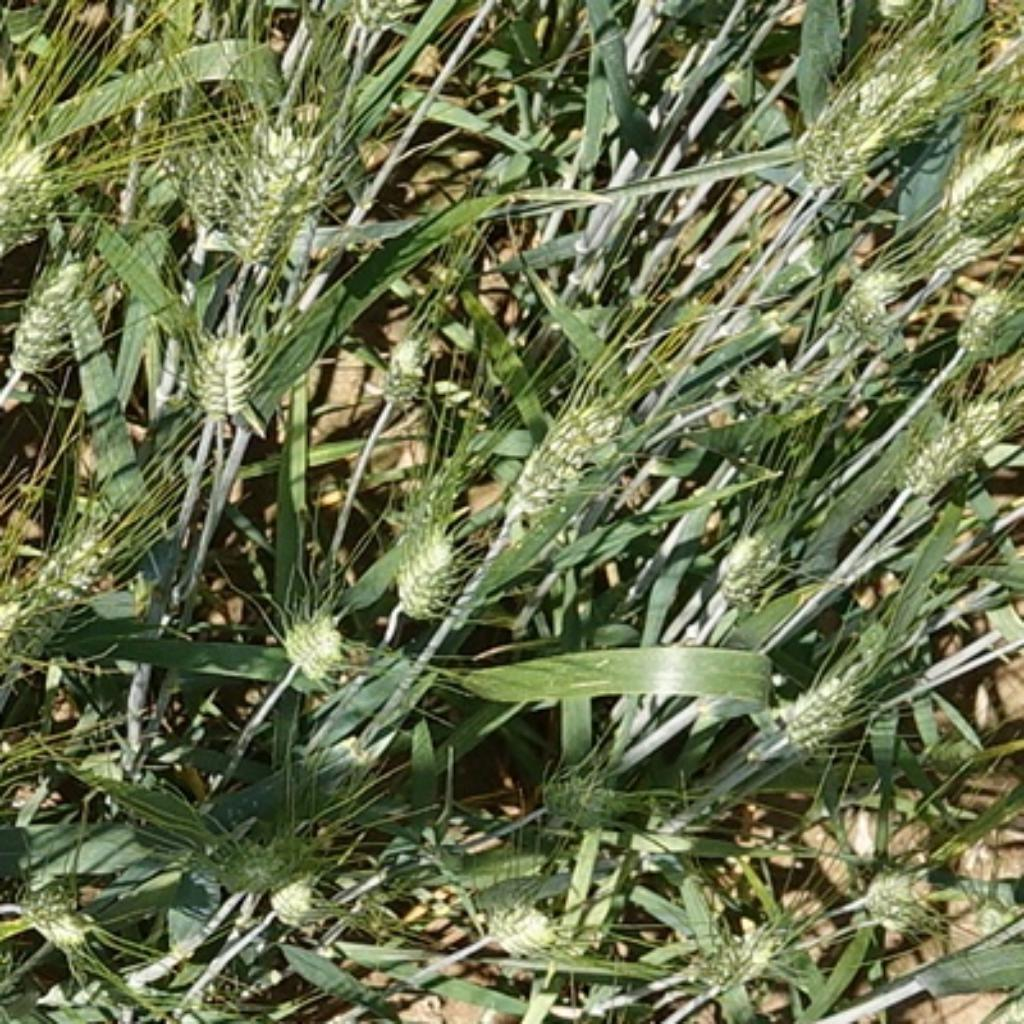0-0: (785, 10, 975, 189), (491, 376, 632, 522), (243, 97, 353, 279), (768, 647, 886, 770), (883, 384, 1006, 496), (670, 898, 808, 995), (8, 253, 105, 384), (381, 486, 468, 616), (937, 122, 1024, 243), (32, 515, 129, 621), (162, 127, 242, 255), (727, 343, 847, 424), (463, 883, 588, 960), (176, 314, 261, 422), (535, 752, 631, 837), (849, 847, 951, 924), (824, 250, 906, 345), (713, 523, 797, 615), (0, 115, 58, 245), (17, 871, 98, 959), (278, 599, 355, 683), (947, 268, 1021, 355), (371, 314, 435, 404), (220, 833, 306, 896), (271, 875, 327, 931), (0, 704, 2, 814)
